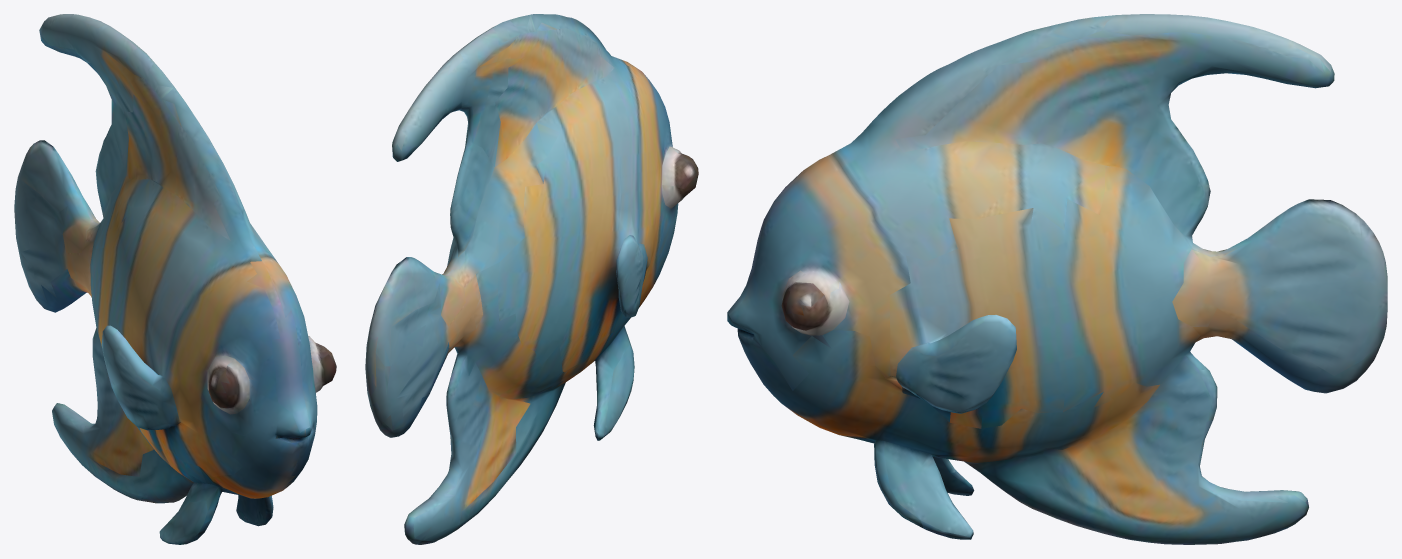
The model's file is angelfish.glb.
3 views of the same model, side by side, from view 1: azimuth 30°, elevation 25°; view 2: azimuth 150°, elevation 25°; view 3: azimuth 270°, elevation 25° (orthographic). The views are drawn at different scales.
Visible parts, largest first — view 1: low; view 2: low; view 3: low.
Part boxes in pixels (bbox=[...]): low: bbox=[14, 14, 336, 544]; low: bbox=[365, 14, 698, 544]; low: bbox=[727, 14, 1387, 544].
Bounding box in the file's own units: 0.7445 × 2 × 2.26.
Materials: 1 (1 with a texture image).
